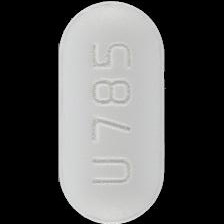23155-116: (0, 0, 224, 224)
